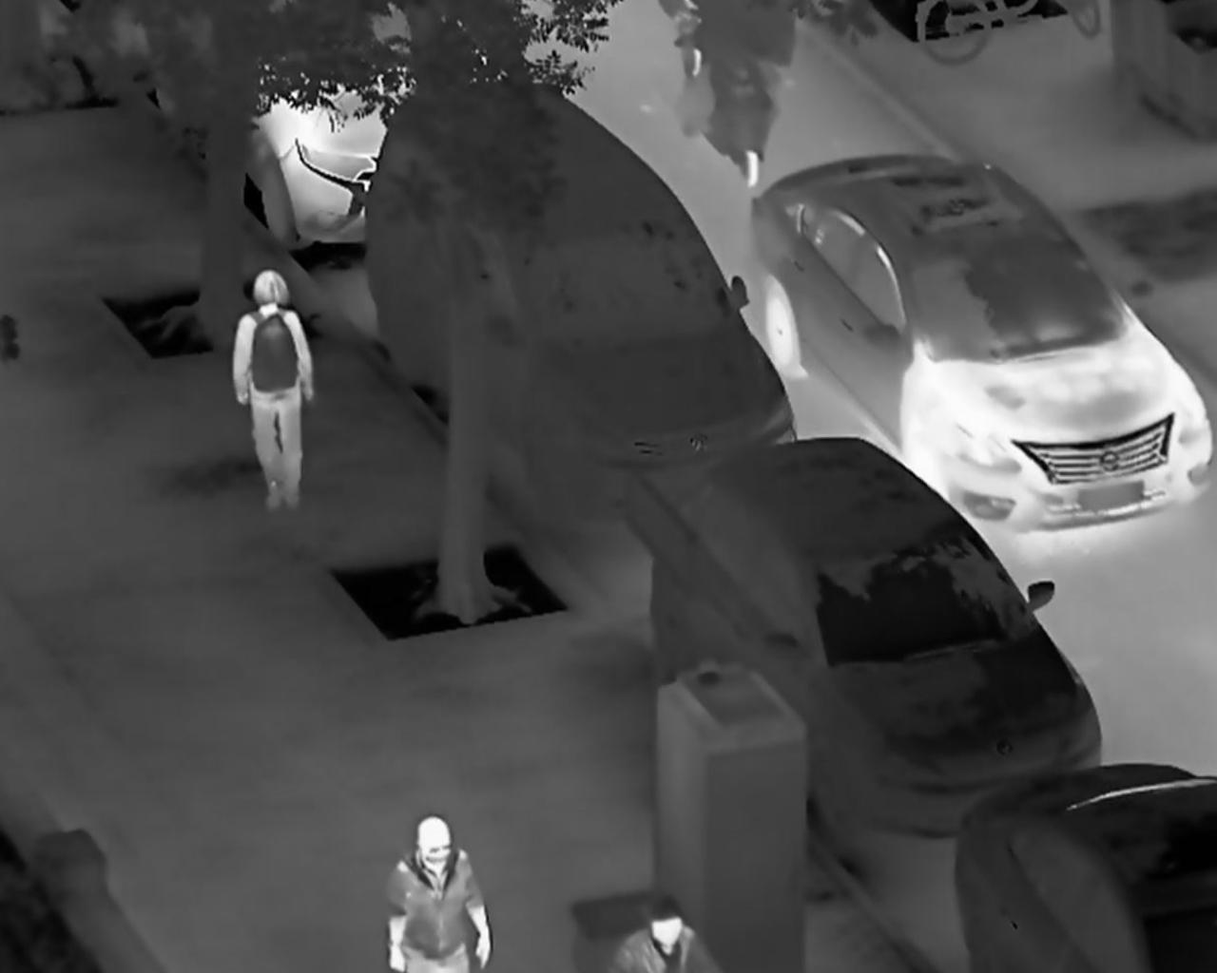person: (227, 266, 319, 518), (382, 812, 493, 973)
